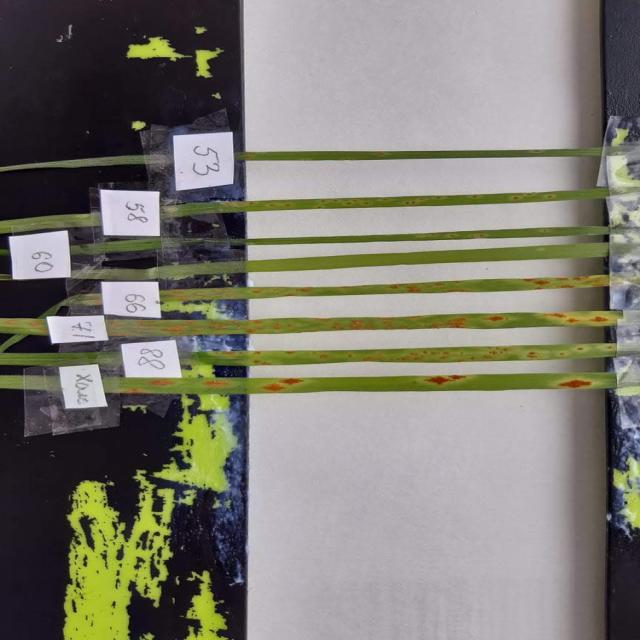wheat-stemrust: (105, 312, 624, 339), (159, 275, 611, 303), (102, 373, 619, 396), (189, 344, 619, 367), (237, 188, 609, 212), (264, 227, 609, 243), (237, 150, 600, 162)
